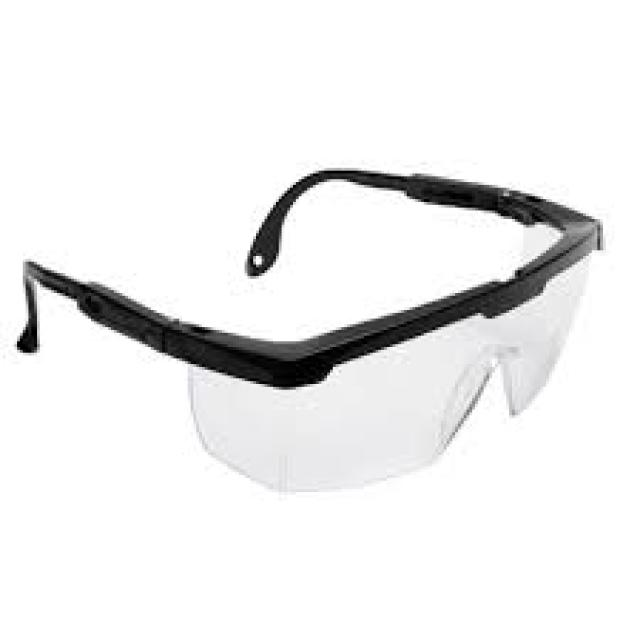oculos-epi: (14, 170, 606, 489)
